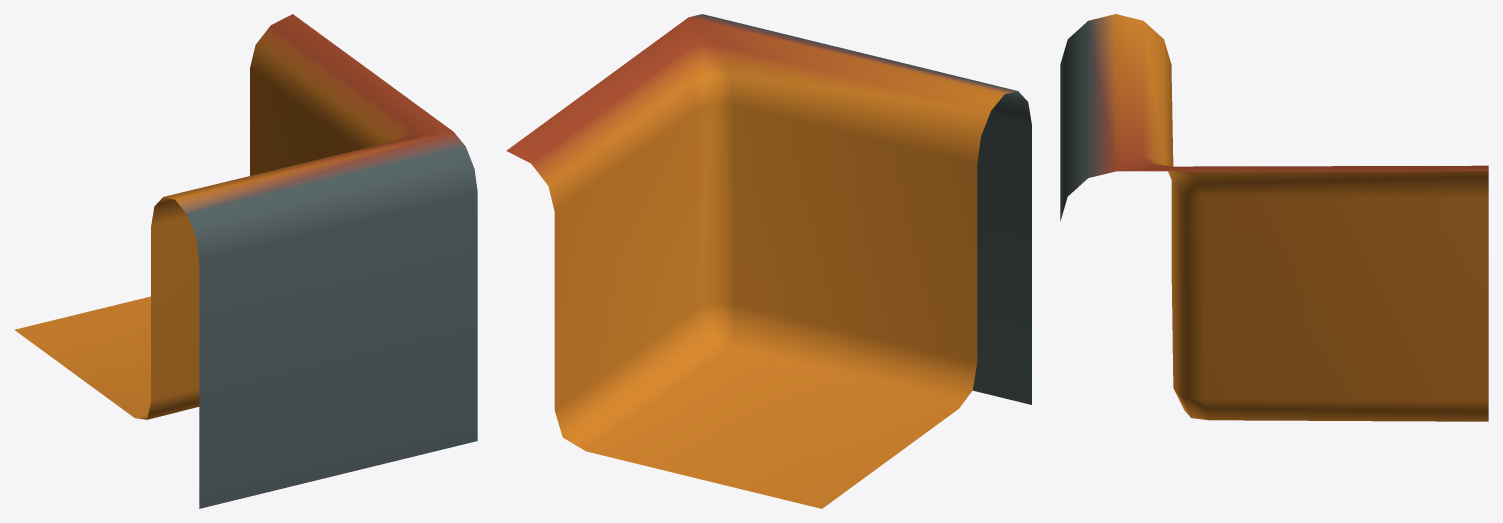
The model's file is Base_PoolCornerBoard.fbx.
3 views of the same model, side by side, from view 1: azimuth 30°, elevation 25°; view 2: azimuth 150°, elevation 25°; view 3: azimuth 270°, elevation 25° (orthographic). The views are drawn at different scales.
Parts seen in each view (by area): view 1: Base_PoolCornerBoard; view 2: Base_PoolCornerBoard; view 3: Base_PoolCornerBoard.
Boxes of the visible parts, <box> form: Base_PoolCornerBoard: <box>14,14,477,508</box>; Base_PoolCornerBoard: <box>506,14,1031,508</box>; Base_PoolCornerBoard: <box>1060,14,1488,421</box>.
Bounding box in the file's own units: 2000 × 2000 × 2300.
